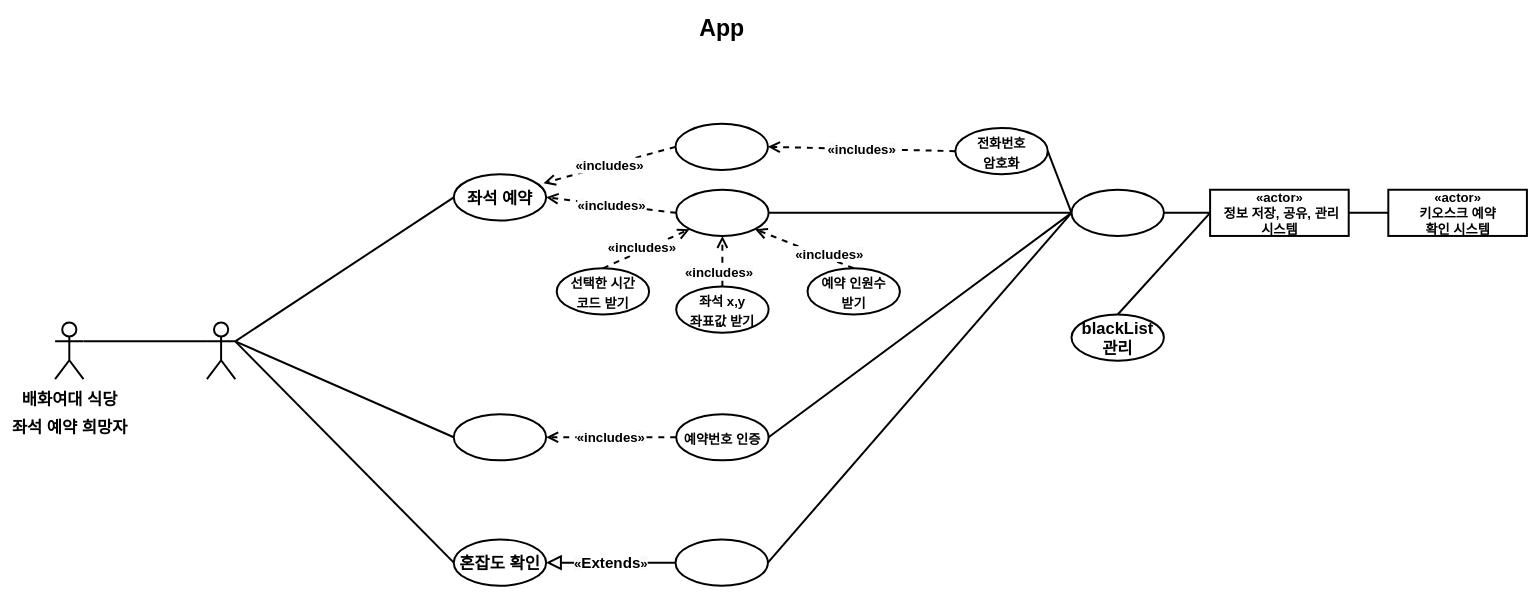
Some shapes in this 1539 by 598 pixel diagram are drawn without their labels. The shapes that lost their labels are listed below. From the top down, each one's centre as x and y in pixels, then its label:
At [721,146]: "전화번호 인증".
At [722,212]: "예약번호 발급".
At [1117,212]: "정보 저장".
At [221,350]: "예약자의 휴대폰".
At [499,437]: "예약 확인".
At [721,562]: "새로고침".
